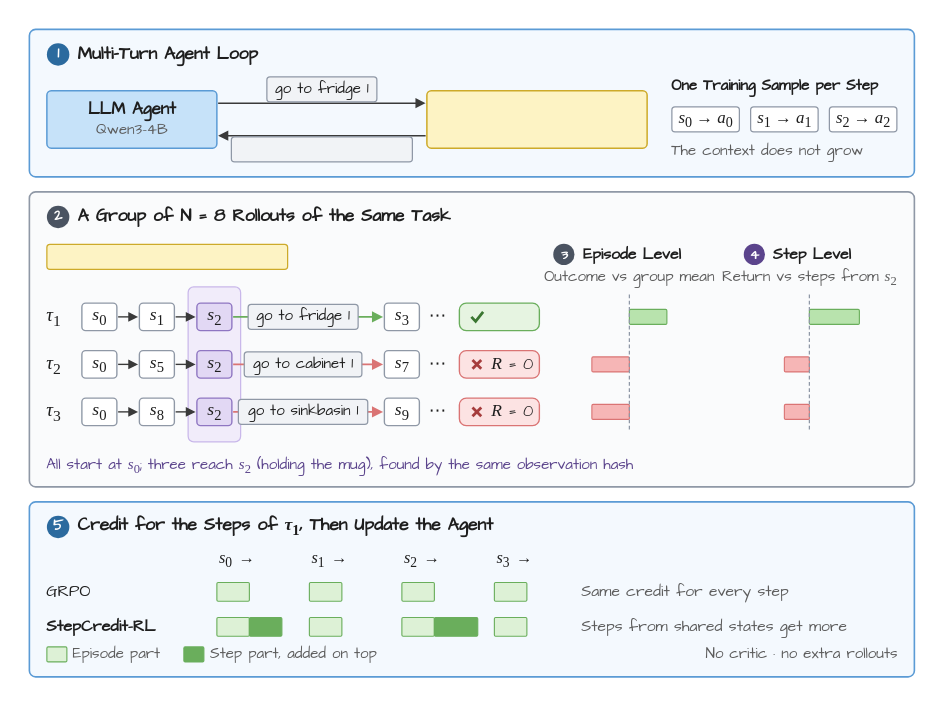
This 943x705 diagram has some shape labels left out. The shapes that lost their labels are listed below. From the top down, each one's box as (x1, y1, x2, y2) in pixels, then its label:
(426, 89, 647, 148): Environment ALFWorld household tasks
(230, 136, 412, 162): “You arrive at fridge 1.”
(46, 243, 288, 269): Task: “put a cool mug in cabinet”
(458, 302, 540, 331): R = 1
